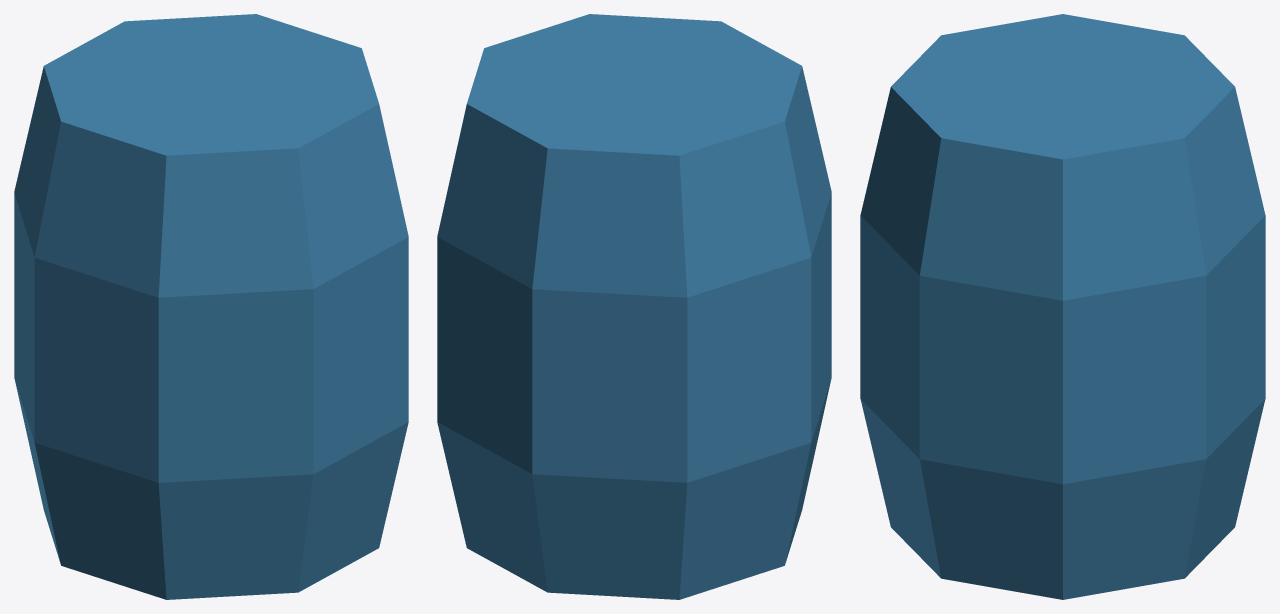
The model's file is barrel.glb.
The picture shows the model from 3 angles, left to right: view 1: azimuth 30°, elevation 25°; view 2: azimuth 150°, elevation 25°; view 3: azimuth 270°, elevation 25°; orthographic projection.
Visible parts, largest first — view 1: Barrel; view 2: Barrel; view 3: Barrel.
Part boxes in pixels (box(x1,y1,x2,y2)): Barrel: box(14, 14, 408, 599); Barrel: box(437, 14, 831, 599); Barrel: box(860, 14, 1265, 599).
Bounding box in the file's own units: 1 × 1.2 × 1.
Materials: 1 (1 with a texture image).
